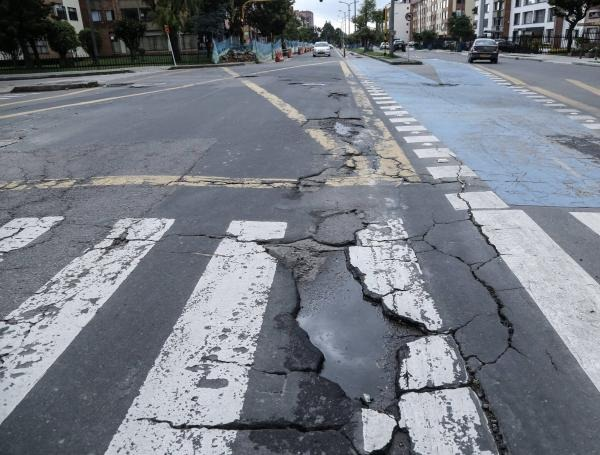car: (464, 36, 505, 65)
